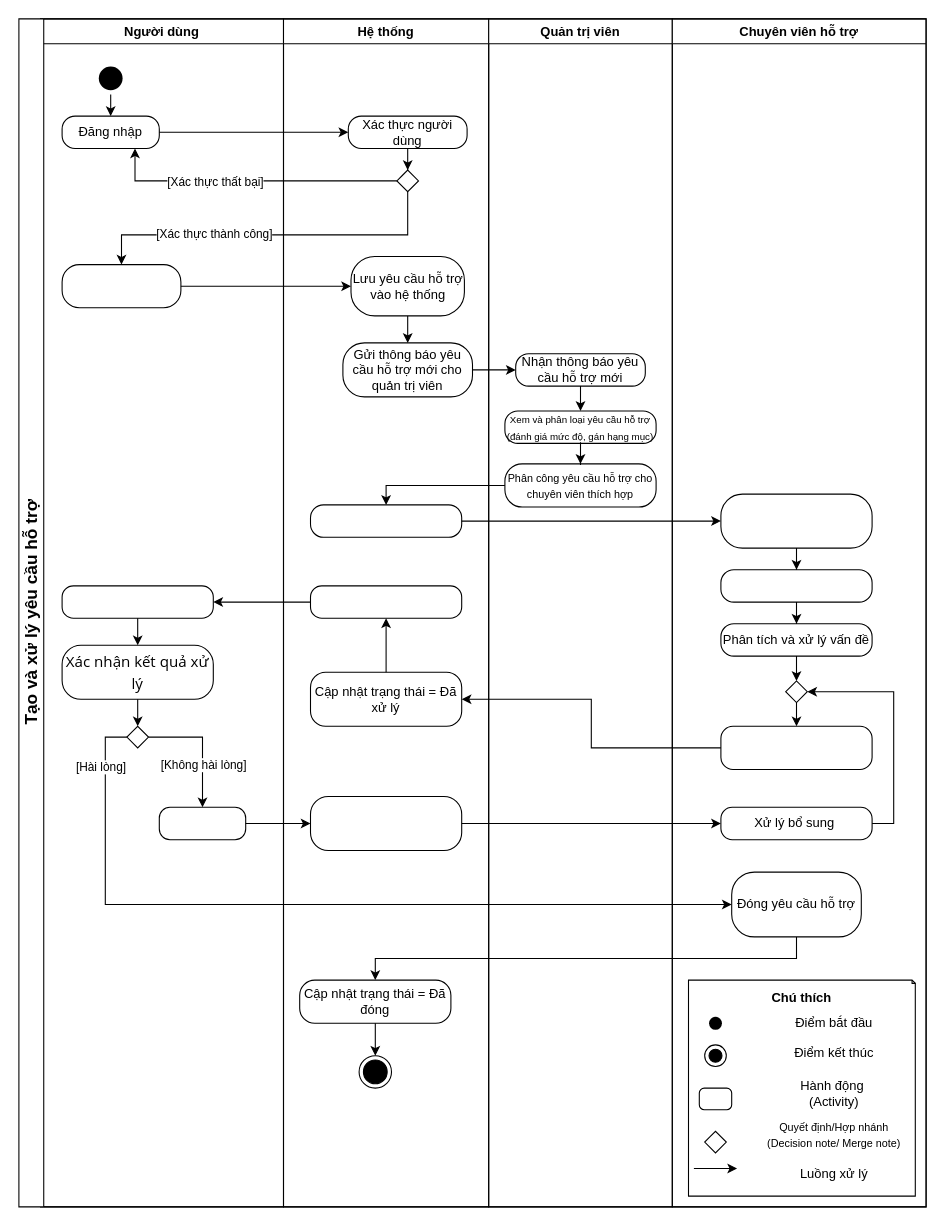
The diagram is 945 pixels wide and 1226 high, and some of its shapes have lost their labels. Each missing label, with the centre of its shape:
Cập nhật kết quả xử lý: the point at 796,747
Cập nhật trạng thái = Yêu cầu xử lý lại: the point at 385,822
Gửi phản hồi: the point at 202,823
Gửi thông báo cho người dùng: the point at 385,601
Gửi thông báo phân công cho chuyên viên: the point at 385,520
Kiểm tra kết quả xử lý: the point at 137,601
Nhận thông báo và xem ticket được phân công: the point at 796,520
Tiếp nhận ticket: the point at 796,585
Tạo yêu cầu hỗ trợ: the point at 121,286
